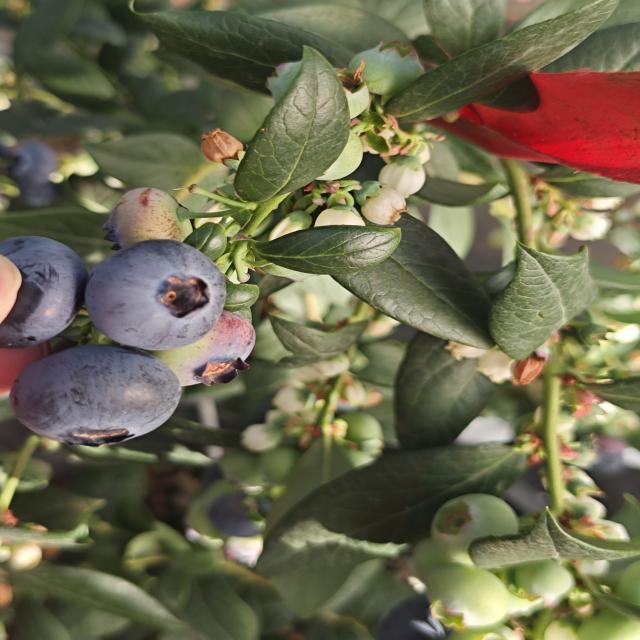ripe: (7, 343, 184, 449), (82, 237, 230, 353), (1, 234, 89, 350), (1, 140, 72, 206)
